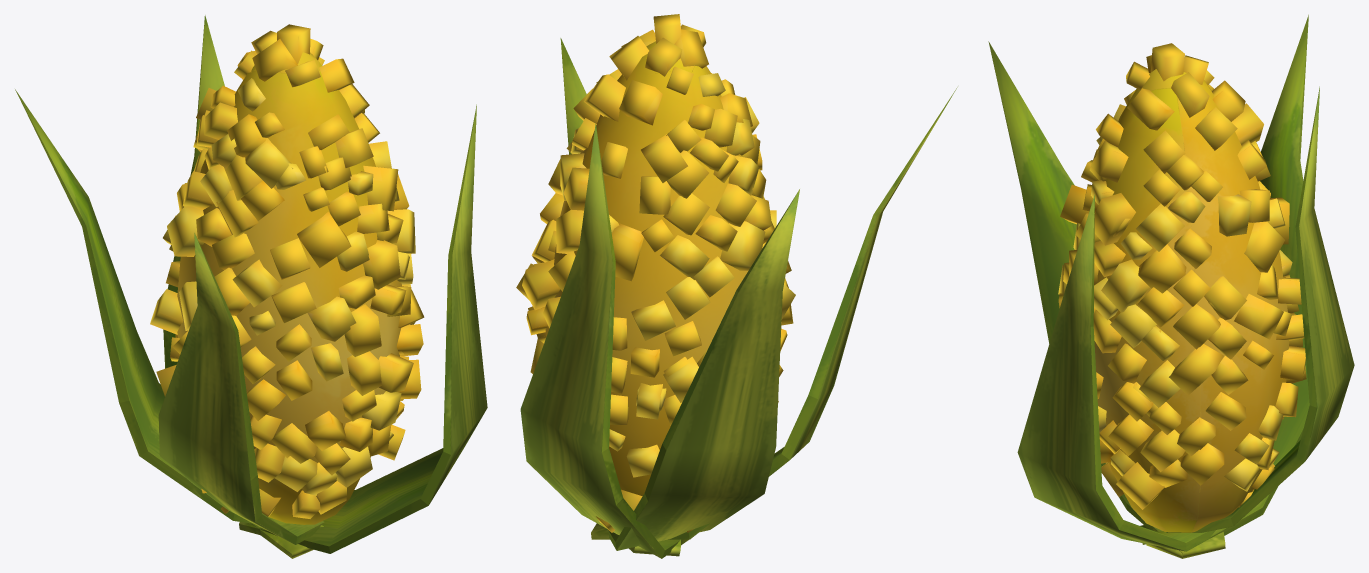
The model's file is cornGlb.glb.
3 renders of one model, left to right at view 1: azimuth 30°, elevation 25°; view 2: azimuth 150°, elevation 25°; view 3: azimuth 270°, elevation 25°, orthographic. The views are drawn at different scales.
Parts seen in each view (by area): view 1: Corn1; view 2: Corn1; view 3: Corn1.
Boxes of the visible parts, x1,y1,x2,y2 form: Corn1: (15, 15, 487, 558); Corn1: (516, 14, 957, 558); Corn1: (988, 14, 1354, 558).
Bounding box in the file's own units: 0.2286 × 0.3136 × 0.2115.
Materials: 1 (1 with a texture image).
